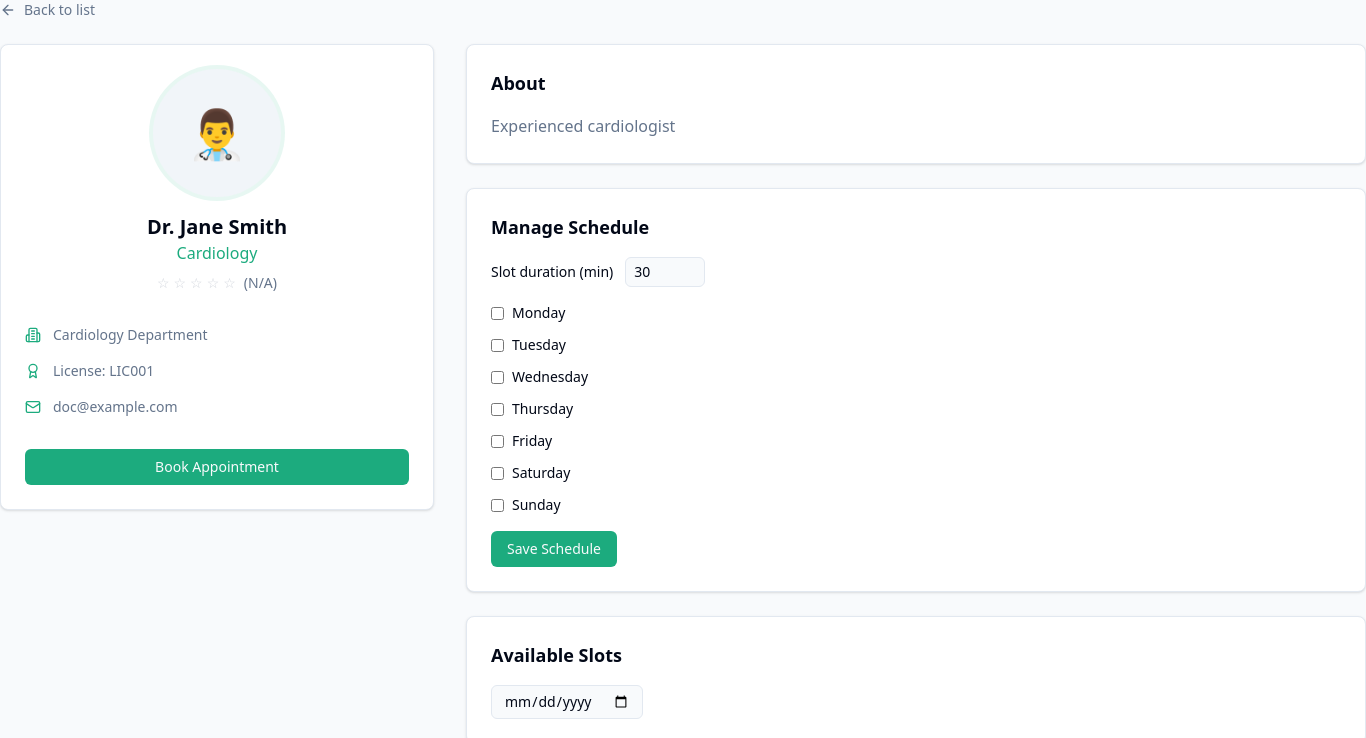
DoctorScheduleForm — behaviour › shows success message after a successful save
The width and height of the screenshot is (1366, 738).
Click the button with test id "schedule-submit" at (554, 549), box [491,531,617,567]
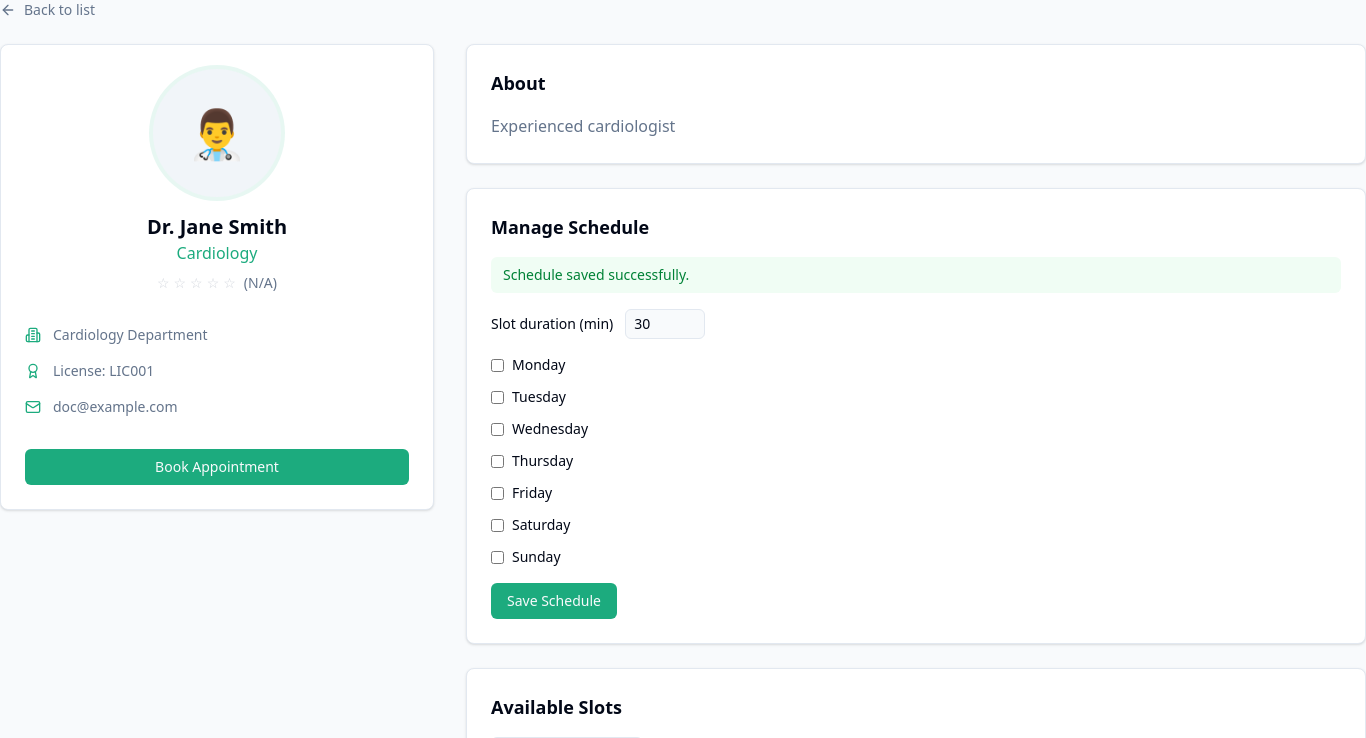
Expected: the text "Schedule saved successfully." is shown, [491,257,1341,293]
